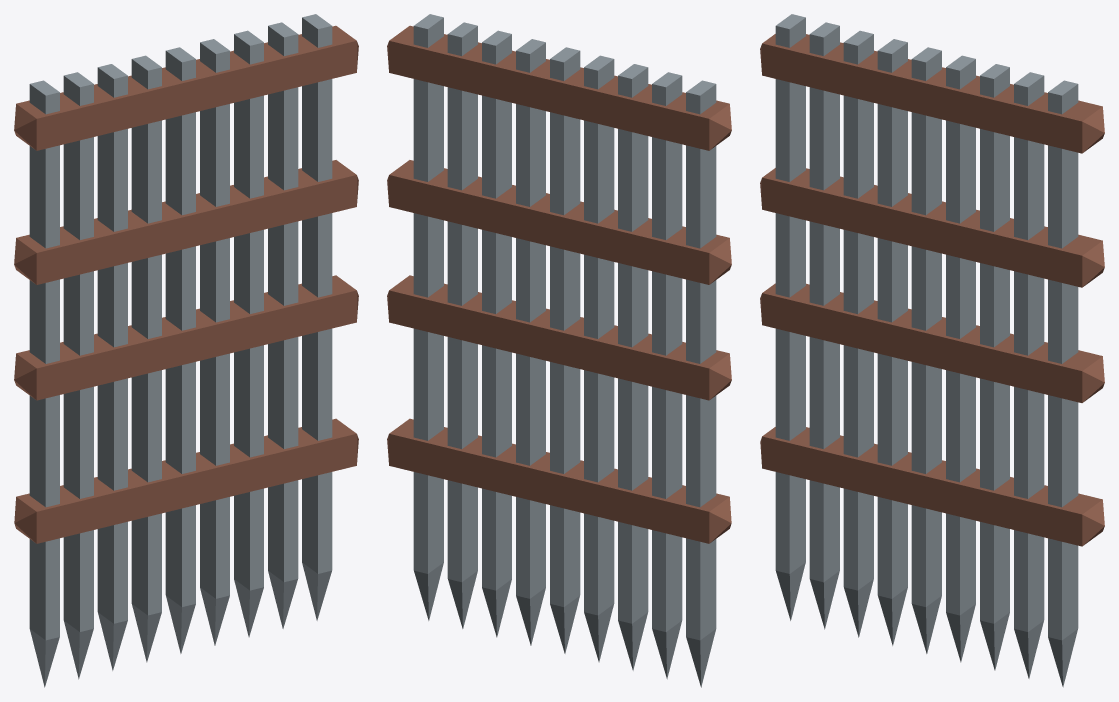
Rendered from StoneWall_MetalGate.fbx.
The picture shows the model from 3 angles, left to right: view 1: azimuth 30°, elevation 25°; view 2: azimuth 150°, elevation 25°; view 3: azimuth 330°, elevation 25°; orthographic projection.
Parts seen in each view (by area): view 1: Cube.057; view 2: Cube.057; view 3: Cube.057.
Boxes of the visible parts, x1,y1,x2,y2 form: Cube.057: (14,14,358,687); Cube.057: (387,14,731,687); Cube.057: (760,14,1104,687).
Size of the model in its own units: 435 by 724 by 45.2.
